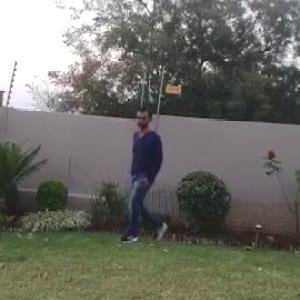follow: (124, 102, 176, 248)
